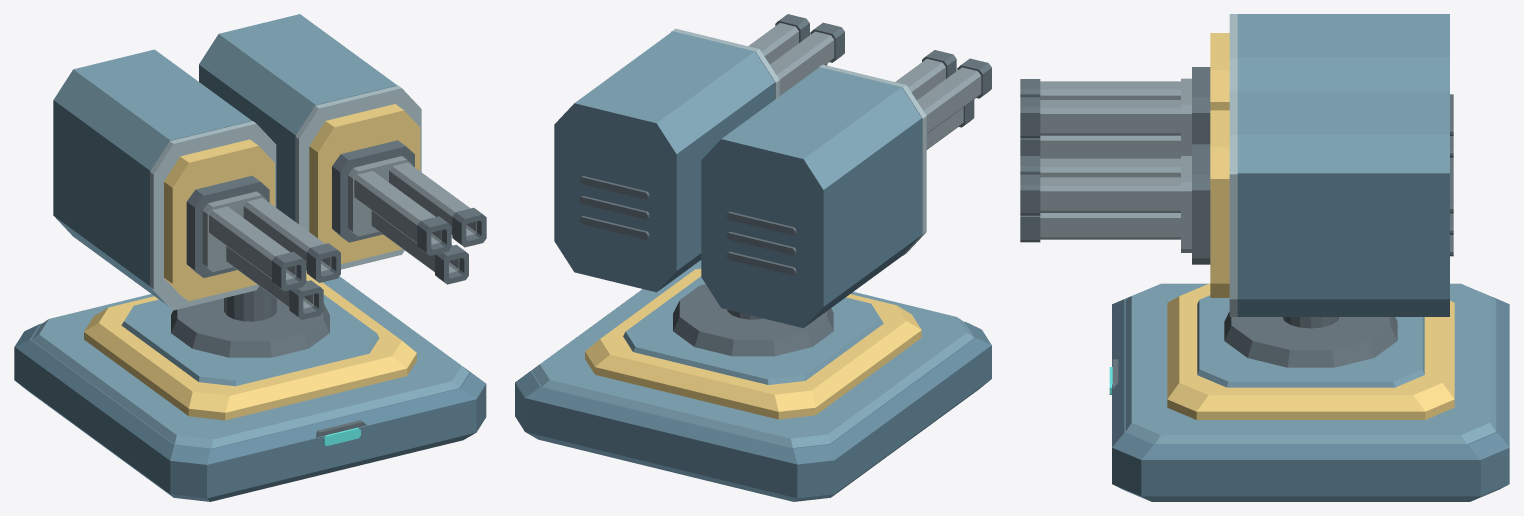
3 renders of one model, left to right at view 1: azimuth 30°, elevation 25°; view 2: azimuth 150°, elevation 25°; view 3: azimuth 270°, elevation 25°, orthographic. The views are drawn at different scales.
Parts seen in each view (by area): view 1: MachineGunTurret_Base, Turret, Barrel2, Barrel1; view 2: Turret, MachineGunTurret_Base, Barrel2, Barrel1; view 3: MachineGunTurret_Base, Turret, Barrel1, Barrel2.
Part boxes in pixels (x1,y1,x2,y2): MachineGunTurret_Base: (14,270,486,501); Turret: (53,14,421,310); Barrel2: (186,175,340,319); Barrel1: (332,140,486,284); Turret: (554,28,926,328); MachineGunTurret_Base: (515,260,991,501); Barrel2: (895,50,991,149); Barrel1: (748,14,844,95); MachineGunTurret_Base: (1109,283,1509,501); Turret: (1210,14,1453,316); Barrel1: (1020,144,1210,264); Barrel2: (1020,67,1210,158).
Size of the model in its own units: 2.17 by 2.1 by 2.68.
